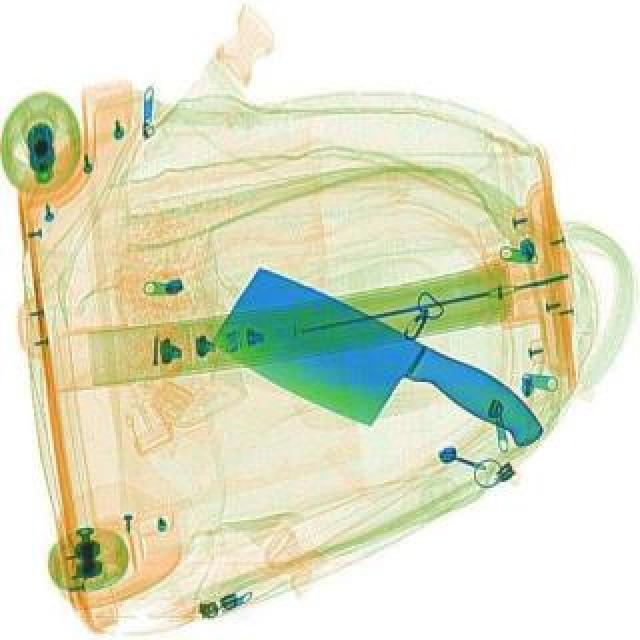knife: (202, 256, 556, 500)
